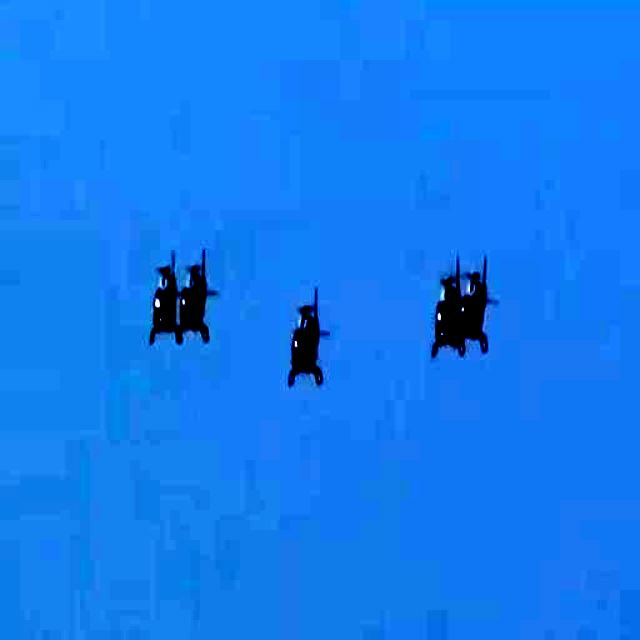drone: (276, 276, 354, 398), (455, 260, 519, 371), (138, 232, 189, 365), (181, 238, 234, 345), (428, 252, 460, 362)
